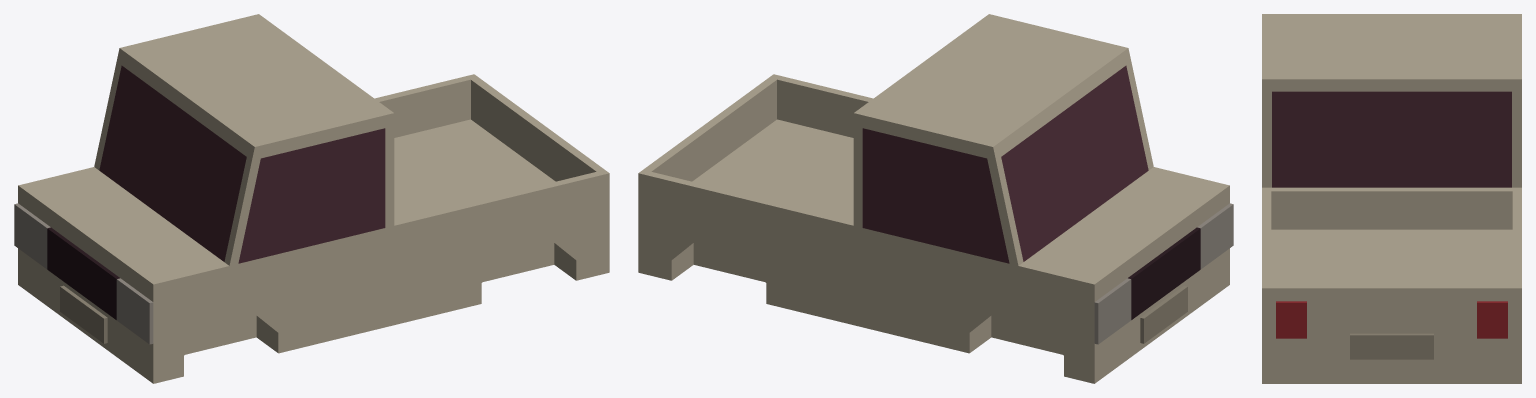
The model's file is Pickup_White.fbx.
3 views of the same model, side by side, from view 1: azimuth 30°, elevation 25°; view 2: azimuth 150°, elevation 25°; view 3: azimuth 270°, elevation 25° (orthographic). The views are drawn at different scales.
Parts seen in each view (by area): view 1: Pickup_White, Pickup_Lights; view 2: Pickup_White, Pickup_Lights; view 3: Pickup_White, Pickup_Lights.
Boxes of the visible parts, bbox=[...] form: Pickup_White: bbox=[18, 14, 609, 383]; Pickup_Lights: bbox=[14, 203, 153, 344]; Pickup_White: bbox=[638, 14, 1229, 383]; Pickup_Lights: bbox=[1094, 203, 1233, 344]; Pickup_White: bbox=[1262, 14, 1521, 383]; Pickup_Lights: bbox=[1276, 301, 1507, 338].
Size of the model in its own units: 3.66 by 1.6 by 1.85.
